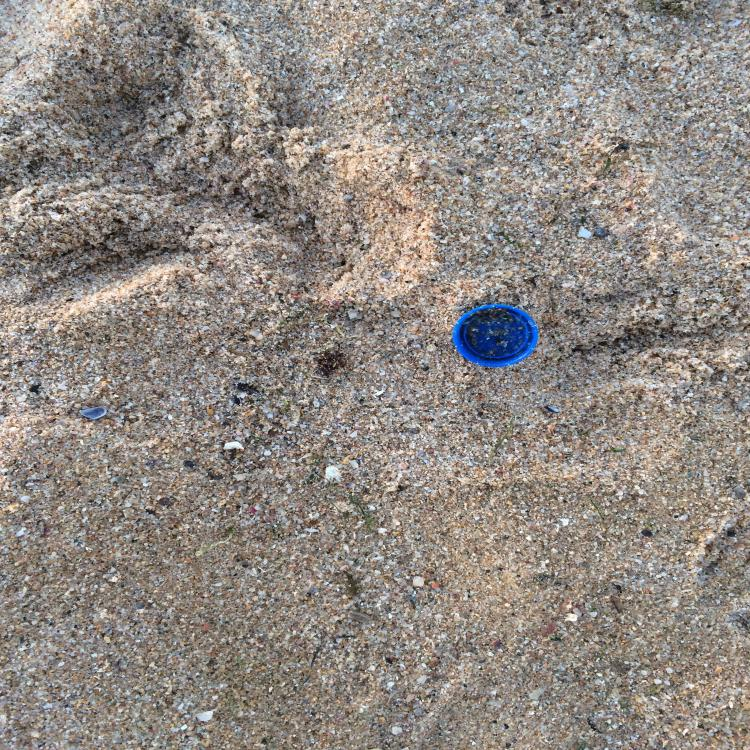Plastic bottle cap: (452, 304, 538, 367)
